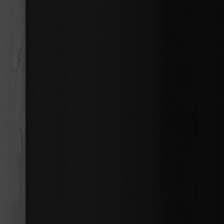silk_spot: (6, 27, 22, 95)
